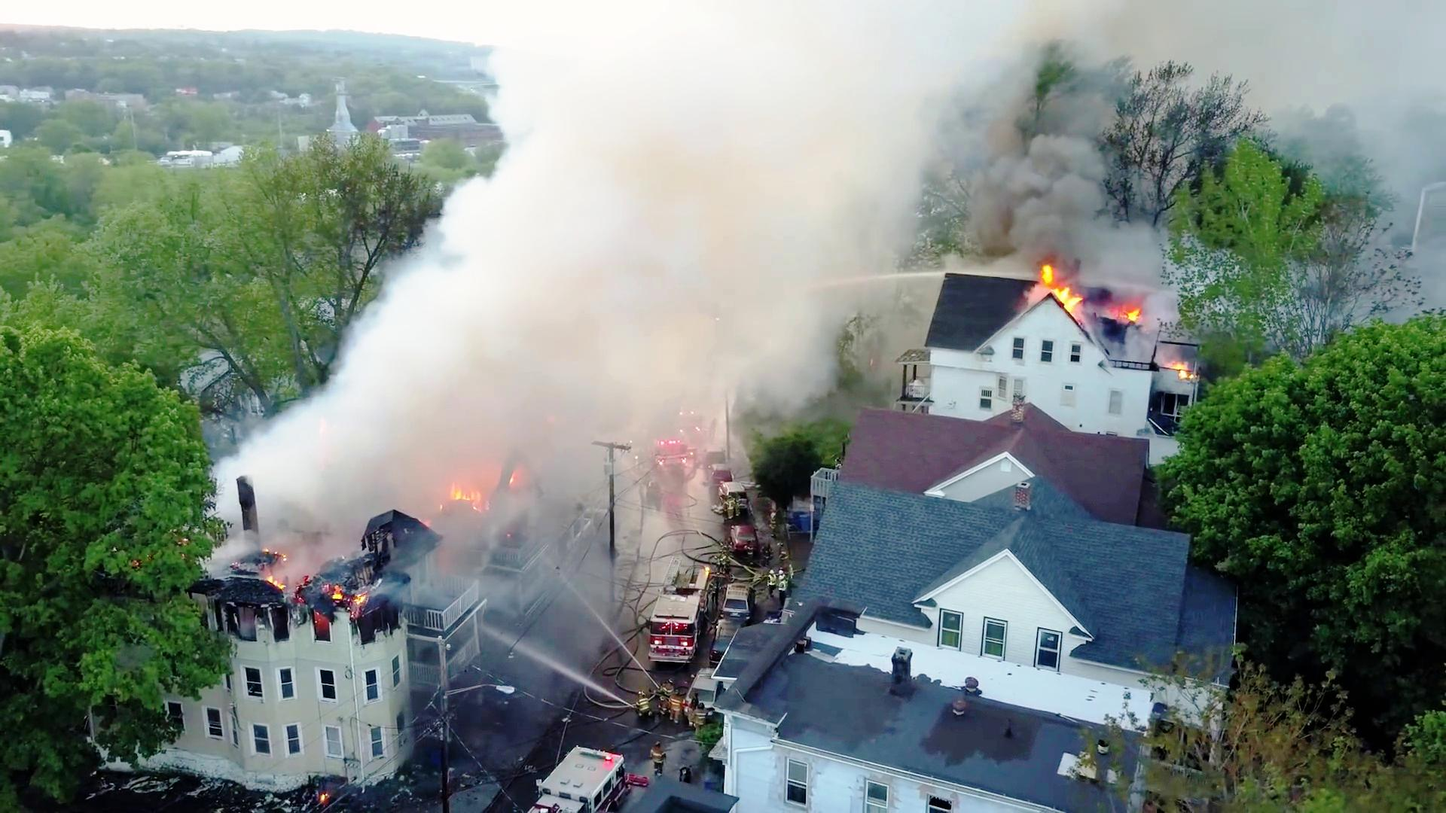fire: (1034, 266, 1082, 327)
smoke: (525, 30, 876, 317)
